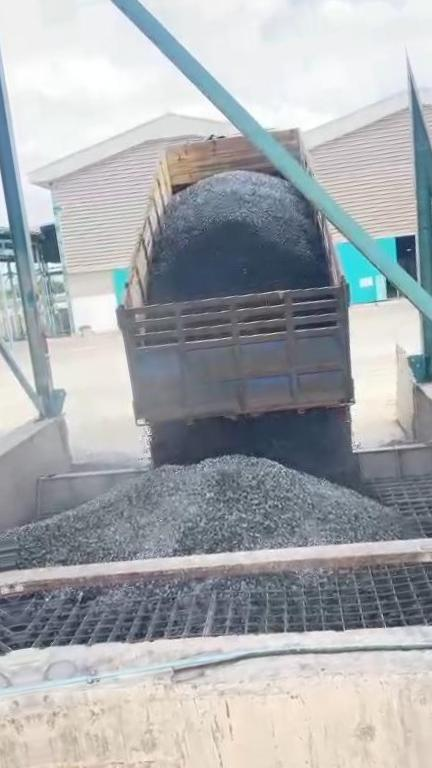gravel: (11, 455, 408, 567), (148, 170, 328, 303), (149, 410, 353, 483), (13, 571, 323, 613)
